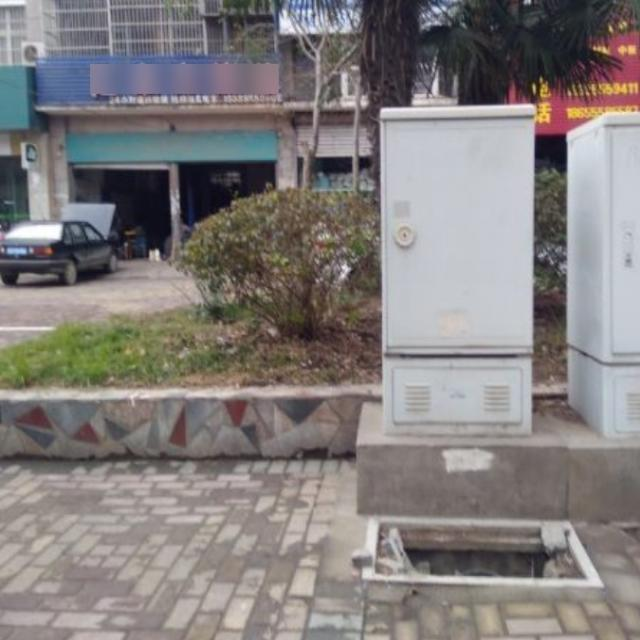Faulty: (346, 504, 616, 616)
